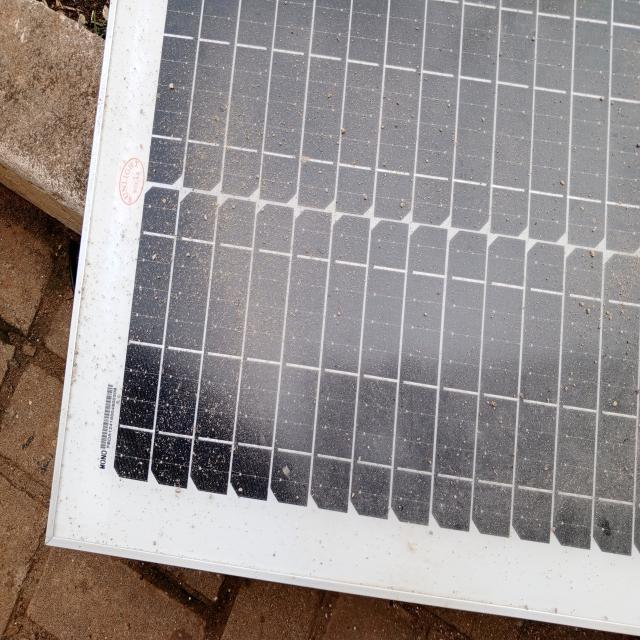Surface Contaminant: (143, 5, 639, 516)
